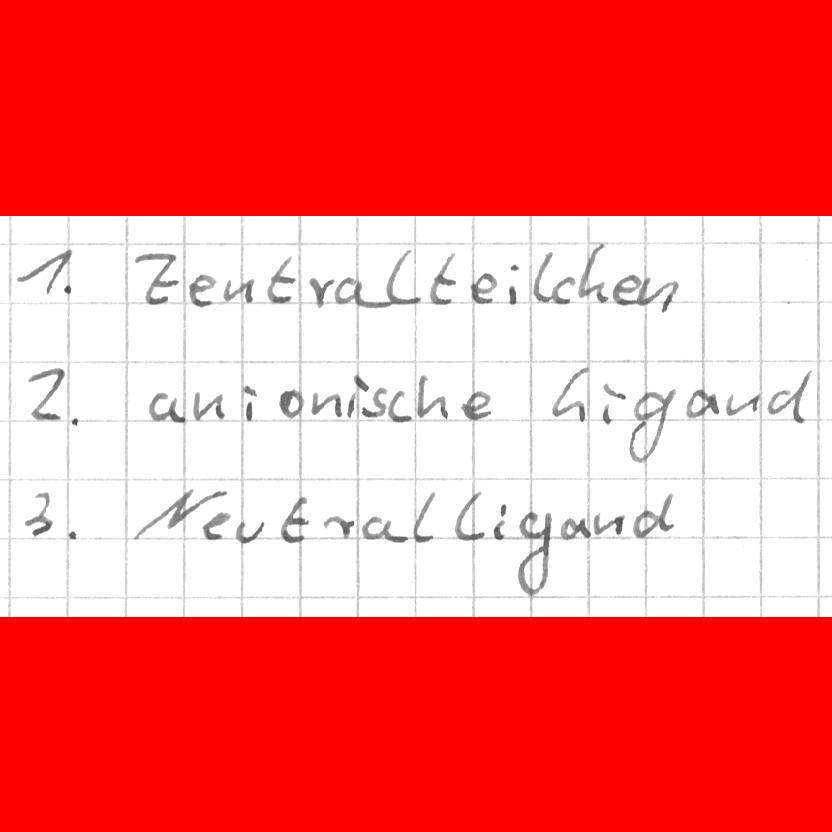Char: (130, 487, 215, 535), (25, 364, 83, 430), (627, 386, 677, 462), (513, 509, 556, 597), (16, 245, 74, 297), (765, 368, 814, 425), (133, 249, 180, 308), (548, 366, 592, 423), (630, 489, 679, 536), (386, 248, 424, 307), (576, 243, 612, 305), (451, 486, 489, 543), (332, 271, 388, 309), (262, 253, 298, 306), (427, 251, 461, 307), (273, 493, 310, 542), (635, 274, 681, 312), (416, 372, 450, 421), (358, 512, 408, 543), (145, 390, 189, 424), (192, 388, 231, 424), (531, 248, 556, 304), (413, 487, 437, 543), (458, 388, 495, 424), (186, 270, 219, 310), (385, 382, 414, 426), (601, 380, 628, 427), (683, 387, 721, 420), (557, 514, 597, 545), (468, 270, 502, 306), (309, 387, 346, 420), (200, 508, 235, 542), (722, 389, 762, 418), (589, 508, 625, 539), (345, 372, 367, 421), (222, 275, 257, 304), (307, 274, 335, 310), (613, 271, 642, 305), (278, 388, 306, 421), (231, 515, 265, 542), (362, 385, 390, 417), (506, 262, 525, 306), (324, 512, 356, 538), (550, 273, 575, 306), (241, 382, 258, 426), (493, 501, 510, 541)
